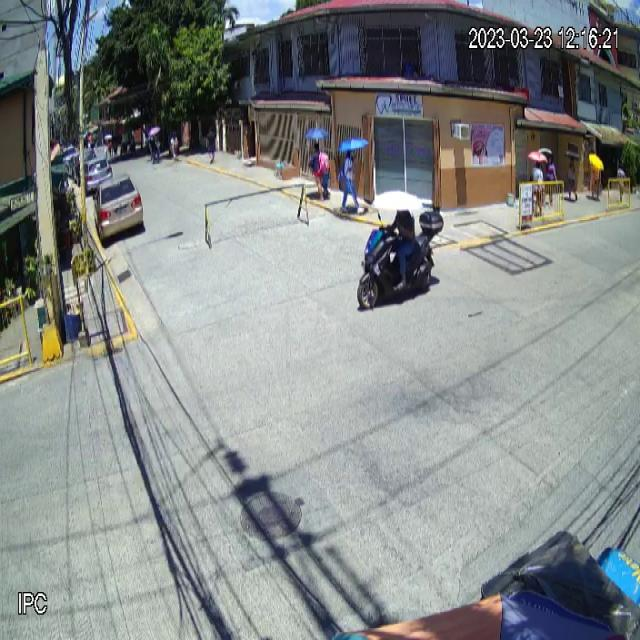Car: (93, 172, 143, 243)
Motorcycle: (356, 210, 446, 311)
